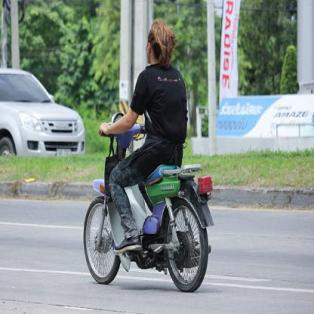Motocicleta: (84, 109, 214, 292)
